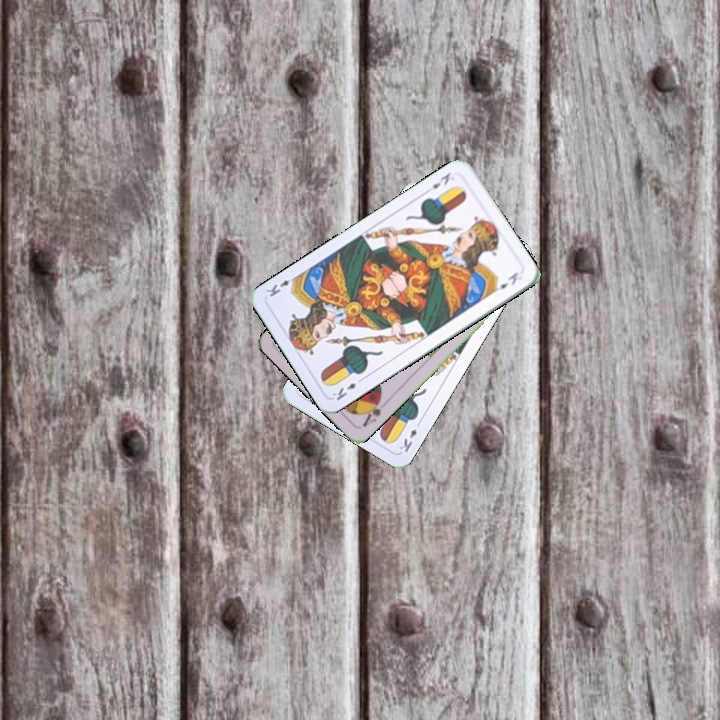EK: (395, 417, 424, 455), (329, 374, 366, 403), (428, 168, 453, 191)
SA: (358, 393, 390, 430)
